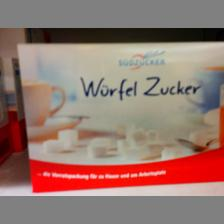Zucker: (15, 39, 223, 193)
